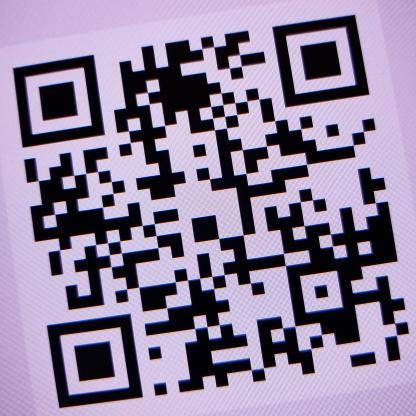qr: (11, 10, 411, 414)
